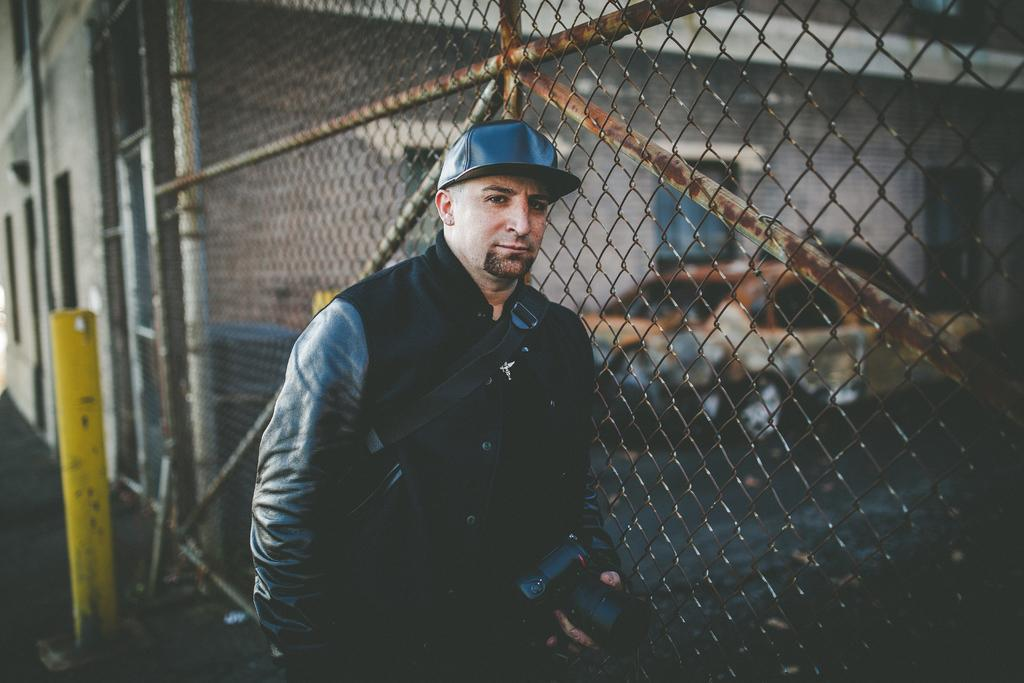Hat: (436, 121, 582, 210)
